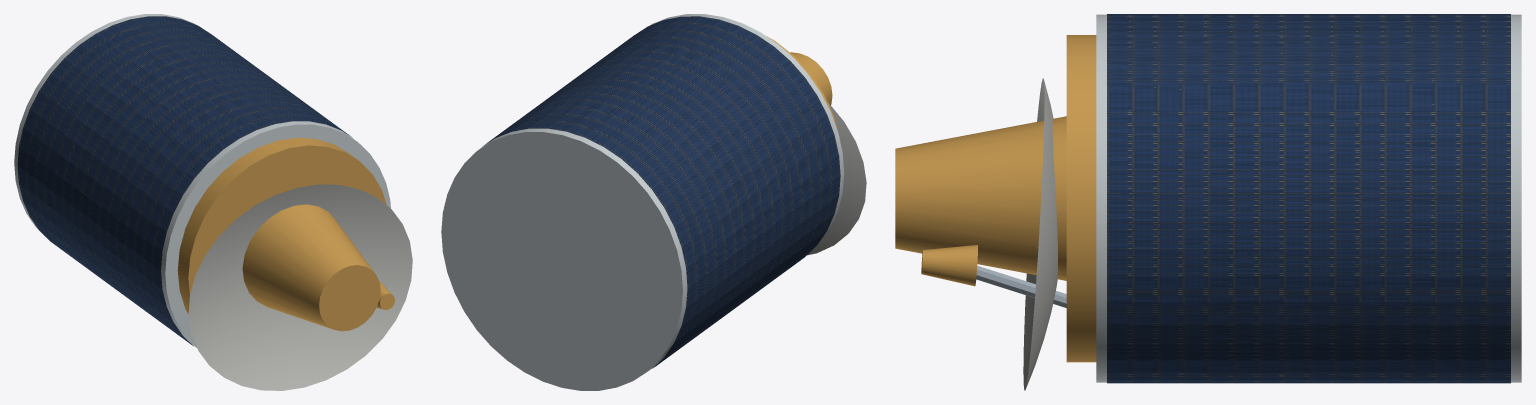
Rendered from ref-nato-3-8808.glb.
3 renders of one model, left to right at view 1: azimuth 30°, elevation 25°; view 2: azimuth 150°, elevation 25°; view 3: azimuth 270°, elevation 25°, orthographic. The views are drawn at different scales.
Parts seen in each view (by area): view 1: Body-mounted solar cells, Deck-mounted reflector, Axial antenna horn, Despun equipment deck, Solar drum core; view 2: Body-mounted solar cells, Solar drum core, Deck-mounted reflector, Axial antenna horn; view 3: Body-mounted solar cells, Axial antenna horn, Despun equipment deck, Solar drum core, Deck-mounted reflector, Feed horn, Offset feed boom.
Part boxes in pixels (box(x1,y1,x2,y2)): Body-mounted solar cells: box(17, 16, 352, 346); Deck-mounted reflector: box(188, 184, 412, 390); Axial antenna horn: box(242, 204, 380, 331); Despun equipment deck: box(177, 137, 386, 313); Solar drum core: box(14, 14, 390, 347); Body-mounted solar cells: box(482, 16, 840, 368); Solar drum core: box(441, 14, 844, 390); Deck-mounted reflector: box(807, 102, 866, 255); Axial antenna horn: box(790, 52, 832, 104); Body-mounted solar cells: box(1107, 14, 1510, 383); Axial antenna horn: box(895, 116, 1066, 280); Despun equipment deck: box(1066, 35, 1096, 362); Solar drum core: box(1096, 14, 1521, 382); Deck-mounted reflector: box(1023, 78, 1058, 390); Feed horn: box(921, 245, 977, 286); Offset feed boom: box(976, 266, 1066, 307).
Size of the model in its own units: 2.21 by 2.24 by 3.74.
5 materials, 1 textured.
